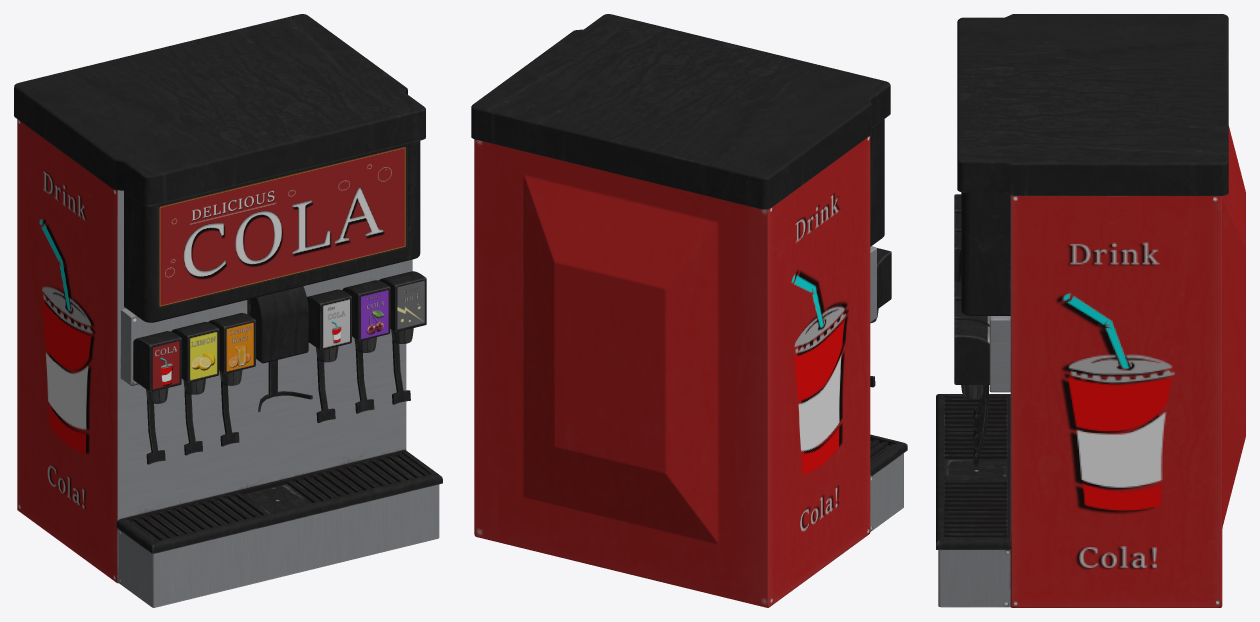
The model's file is generic_soda_dispenser.glb.
3 renders of one model, left to right at view 1: azimuth 30°, elevation 25°; view 2: azimuth 150°, elevation 25°; view 3: azimuth 270°, elevation 25°, orthographic. The views are drawn at different scales.
Parts seen in each view (by area): view 1: Soda Box.005_0; view 2: Soda Box.005_0; view 3: Soda Box.005_0.
Part boxes in pixels (x1=…): Soda Box.005_0: x1=14, y1=14, x2=442, y2=607; Soda Box.005_0: x1=471, y1=14, x2=907, y2=607; Soda Box.005_0: x1=936, y1=14, x2=1245, y2=607.
Bounding box in the file's own units: 0.8767 × 1.21 × 0.7632.
Materials: 1 (1 with a texture image).
